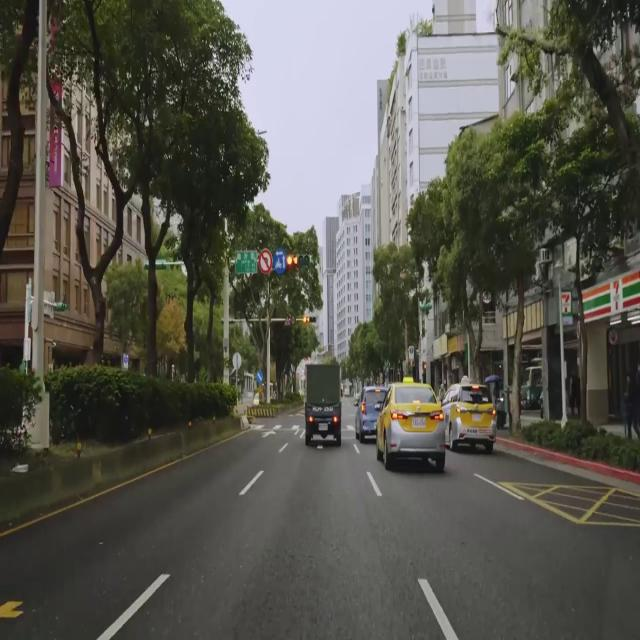red light: (286, 253, 310, 268), (302, 316, 316, 324)
